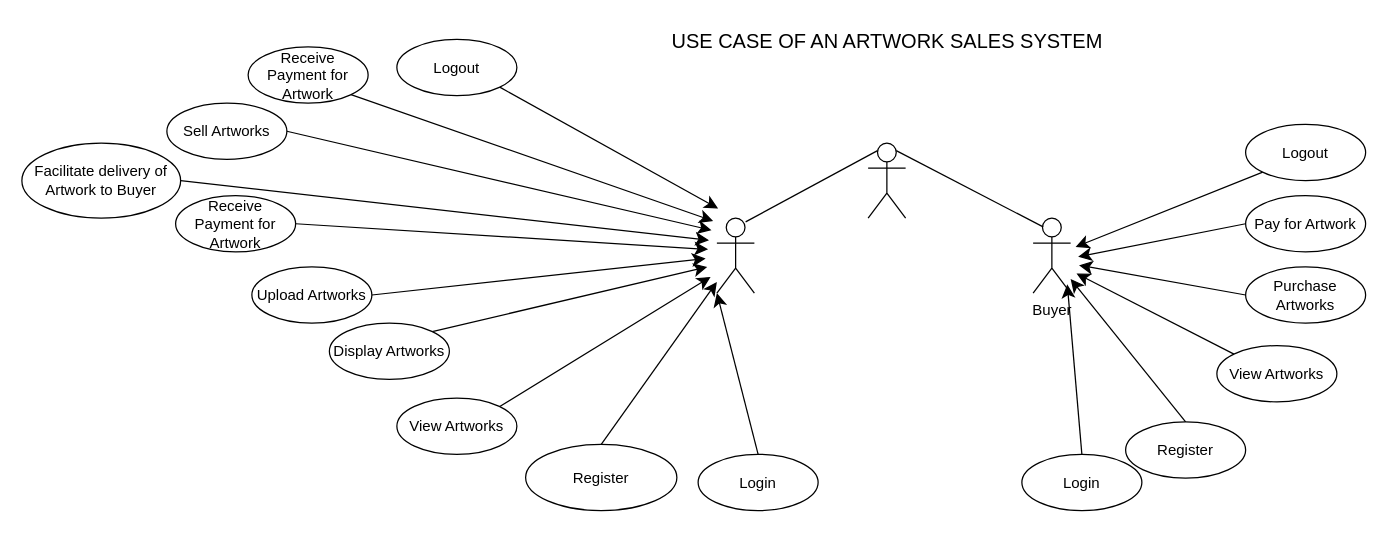
This 1388x533 diagram has some shape labels left out. Each missing label, with the centre of its shape:
"Seller" belongs at (735,255).
"User" belongs at (886,180).
